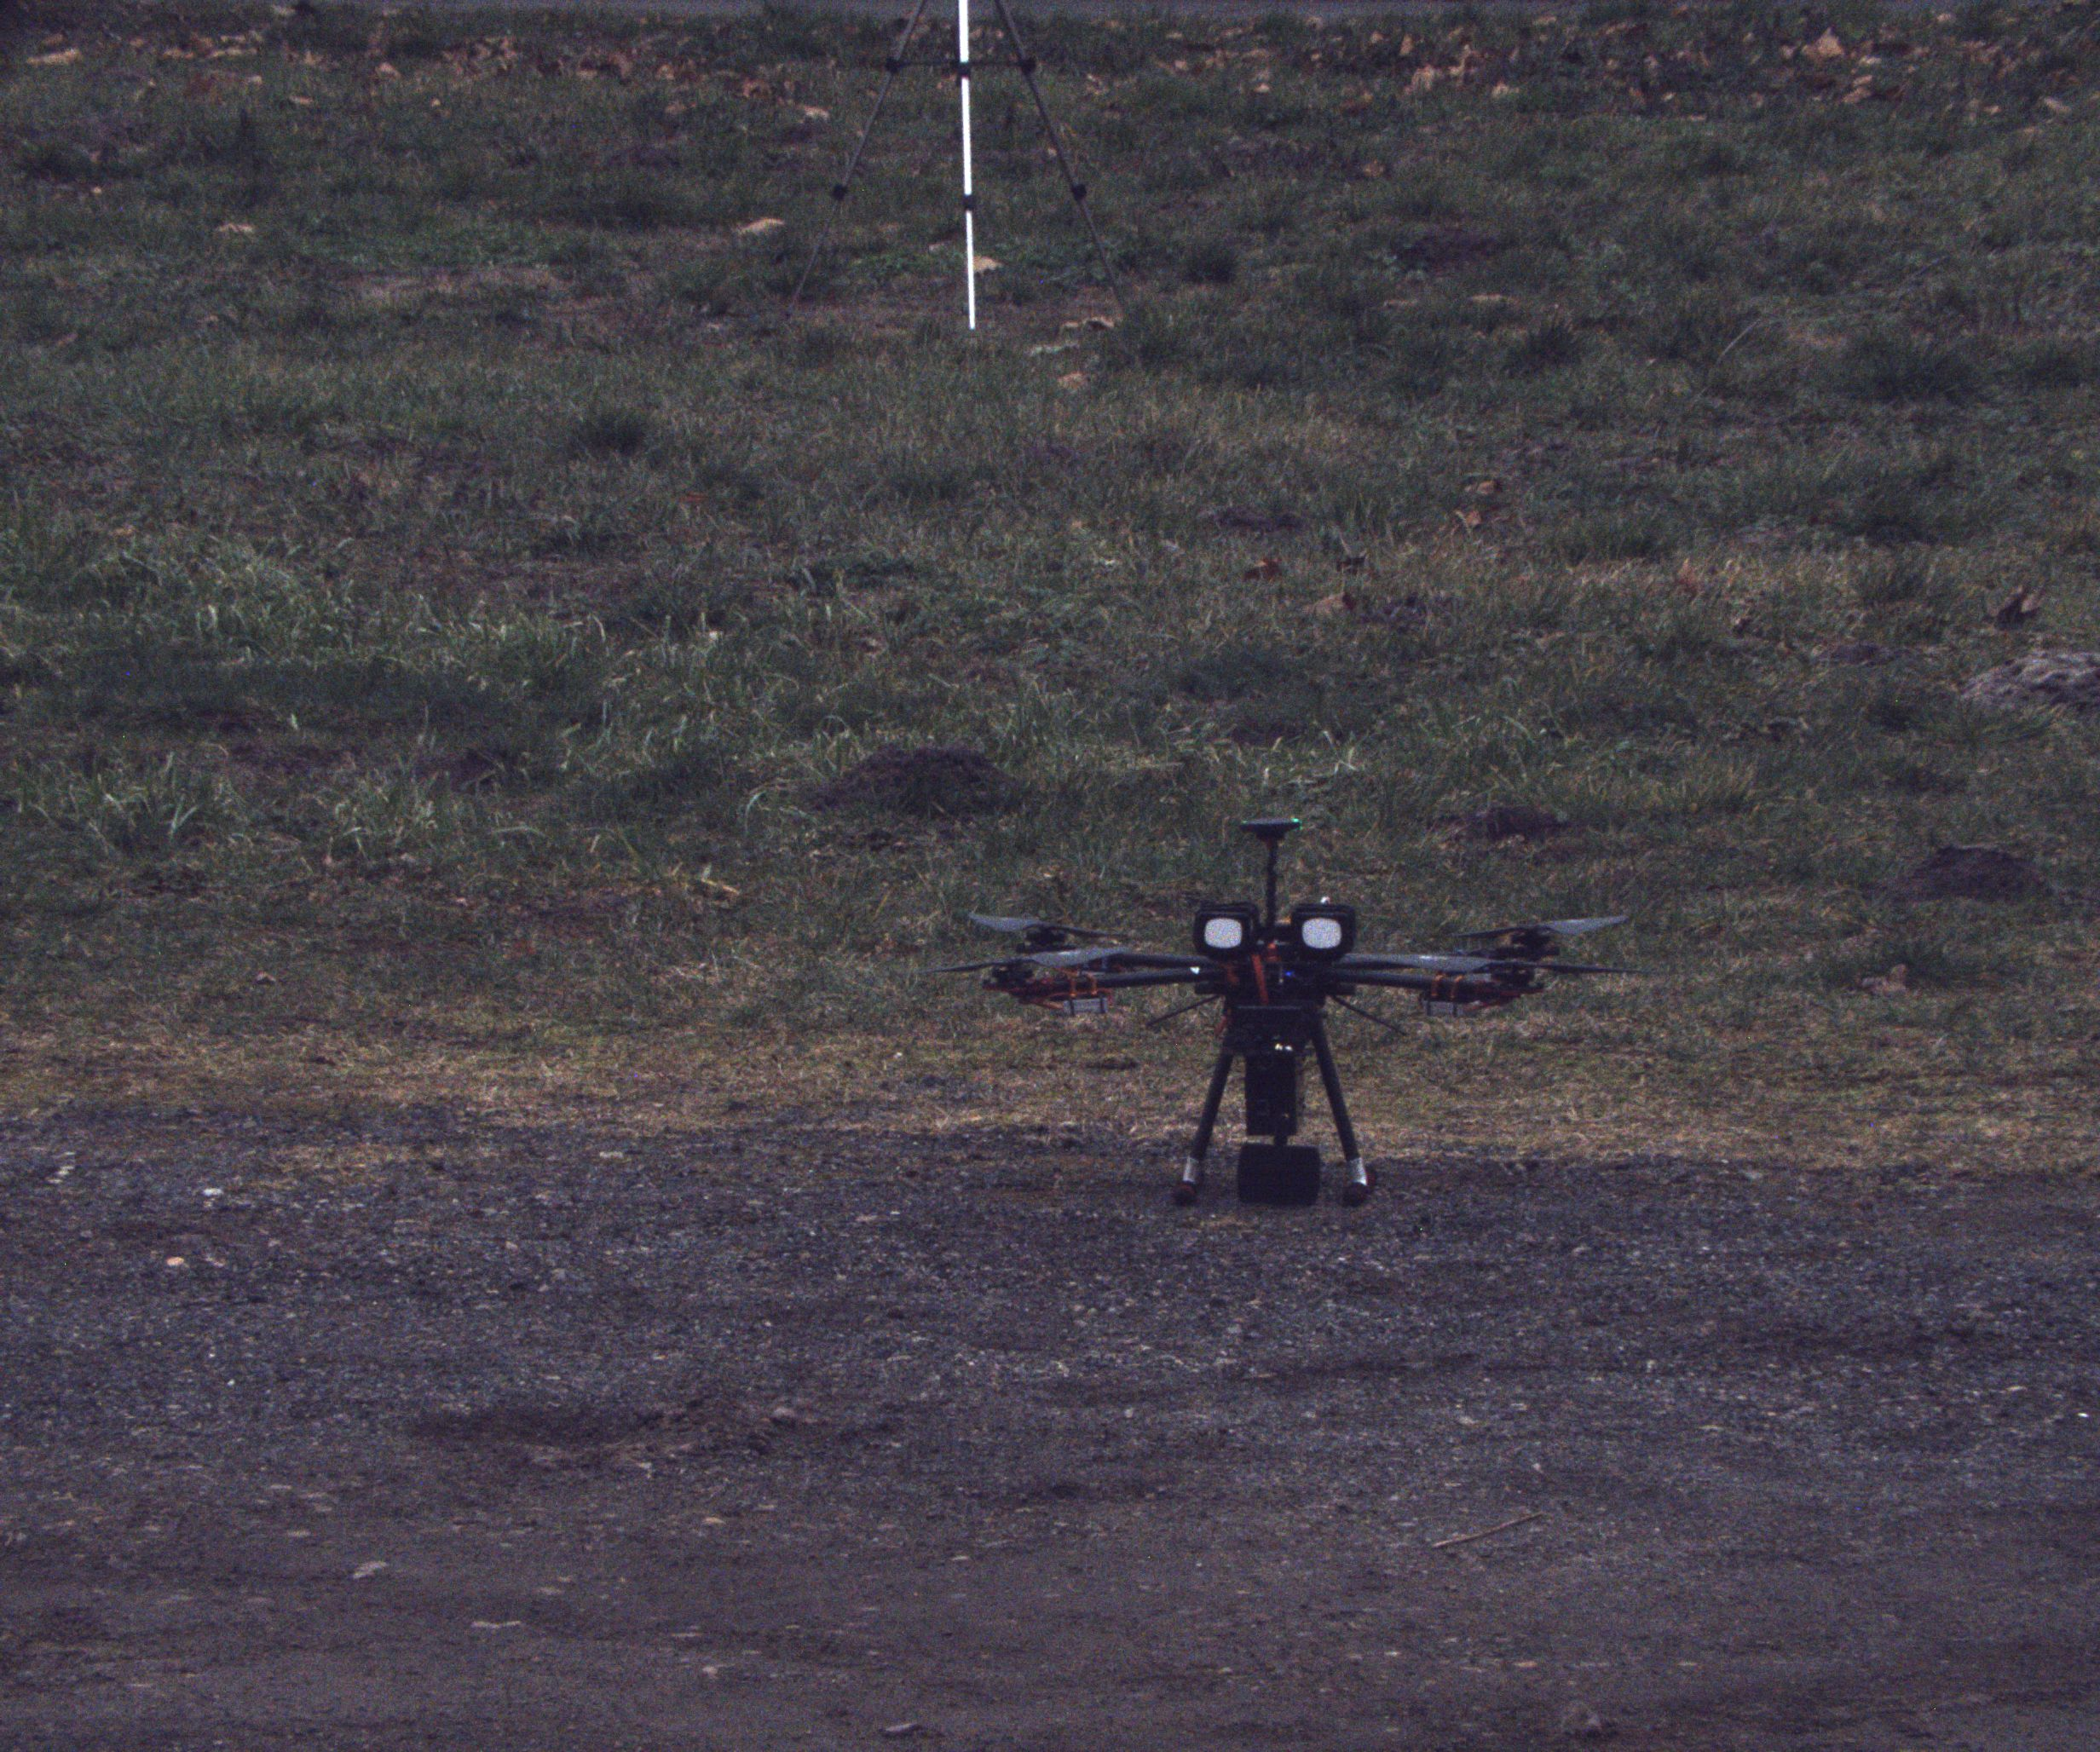Drohne: (937, 795, 1695, 1297)
